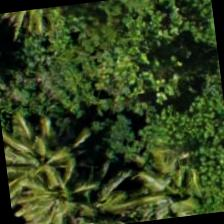Kelapa_Sawit: (0, 107, 86, 206), (6, 150, 106, 223), (46, 163, 144, 223)
